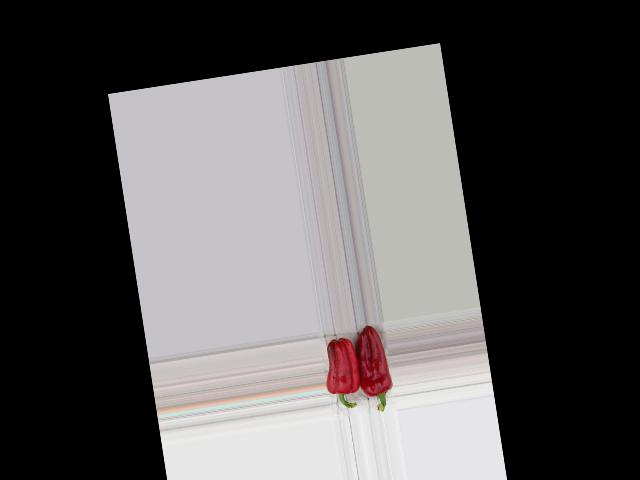bell_pepper: (351, 323, 396, 416)
